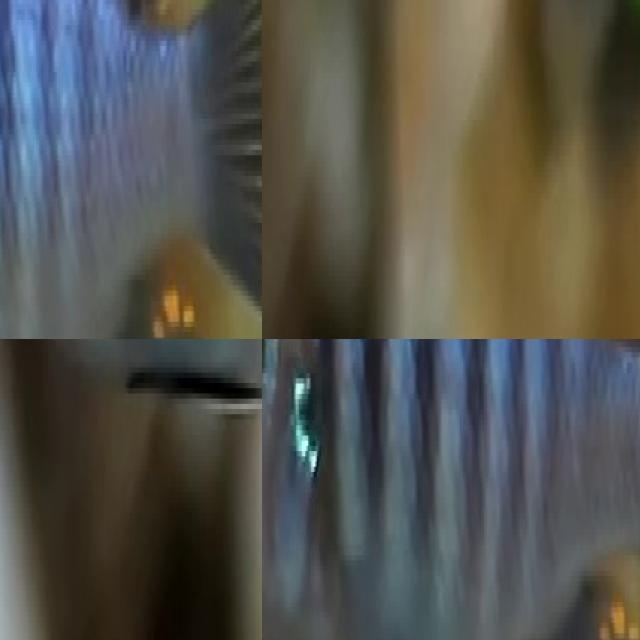fish: (262, 339, 640, 640), (0, 0, 262, 339), (0, 339, 262, 487)
